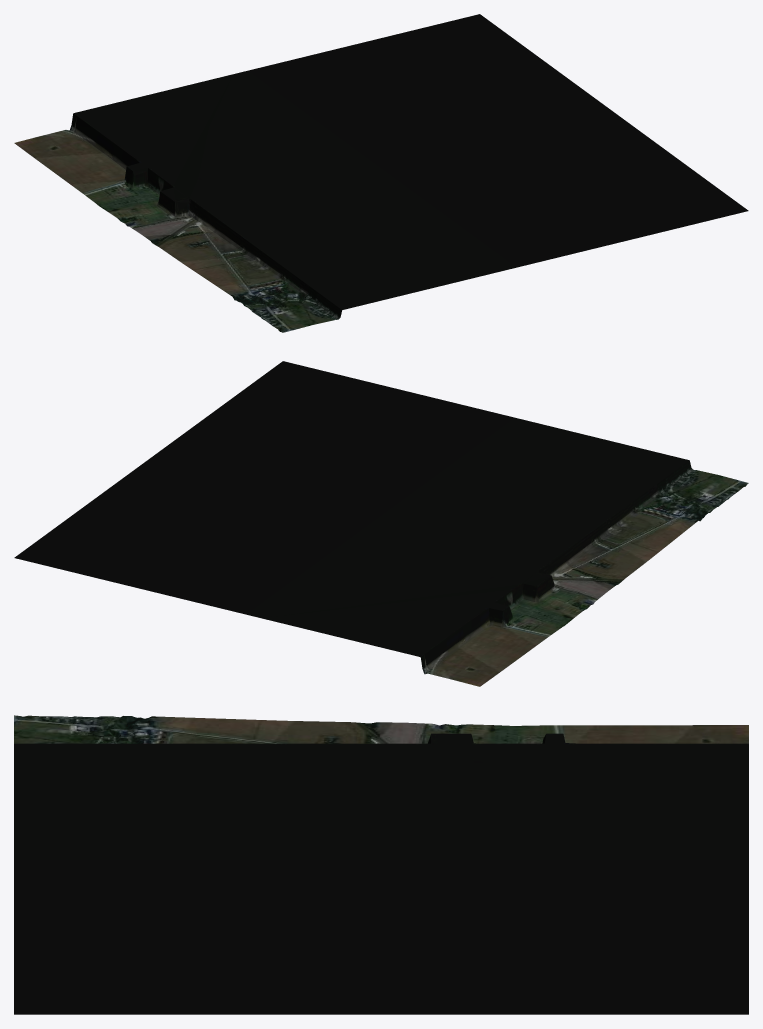
The model's file is map_10_258_431.dae.
3 renders of one model, top to bottom at view 1: azimuth 30°, elevation 25°; view 2: azimuth 150°, elevation 25°; view 3: azimuth 270°, elevation 25°, orthographic. The views are drawn at different scales.
Parts seen in each view (by area): view 1: Ter0; view 2: Ter0; view 3: Ter0.
Part boxes in pixels (x1=…): Ter0: x1=14, y1=14, x2=748, y2=332; Ter0: x1=14, y1=361, x2=748, y2=686; Ter0: x1=14, y1=715, x2=748, y2=1014.
Size of the model in its own units: 2044 by 2044 by 69.
3 materials, 3 textured.
